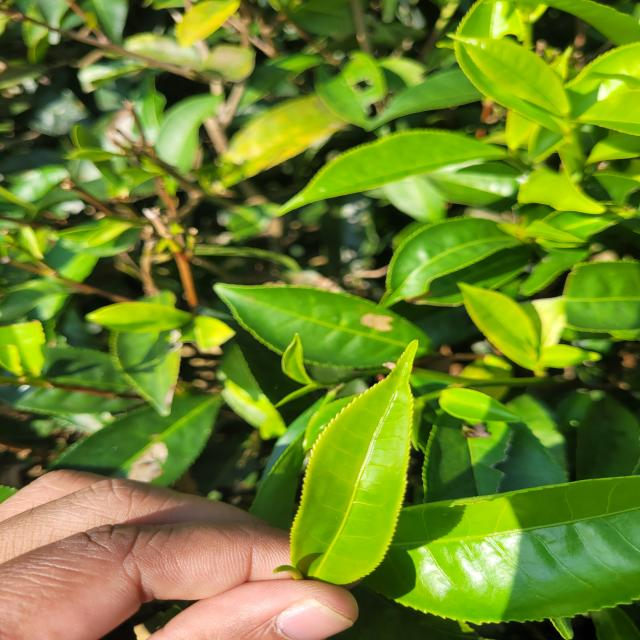Catagory A(1-2 days): (256, 336, 435, 610)
